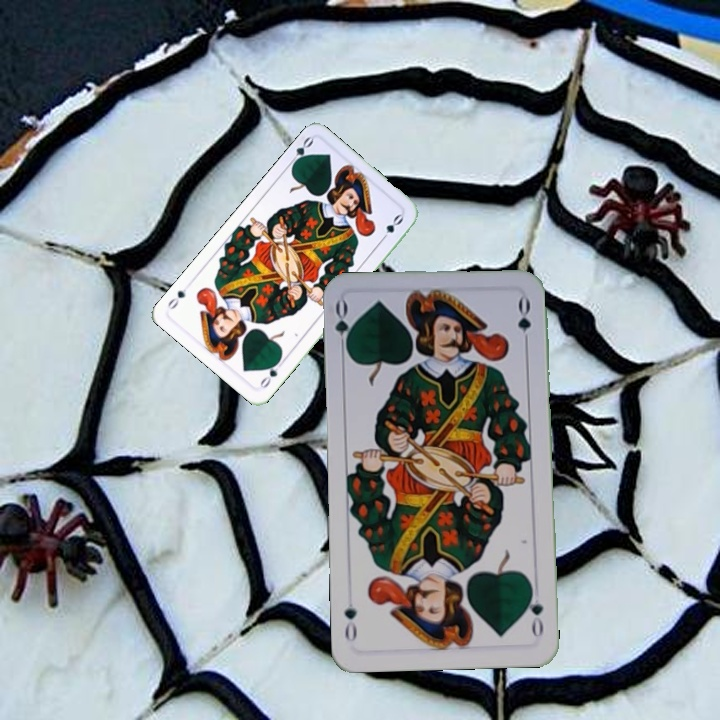GO: (331, 297, 355, 357), (523, 581, 546, 640), (284, 133, 316, 170), (256, 355, 286, 391)
